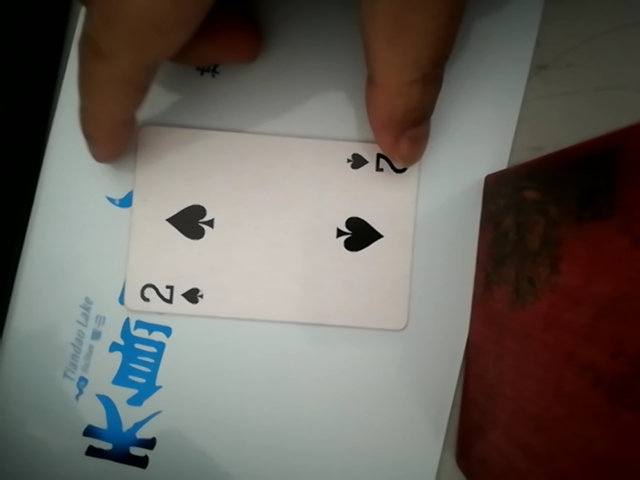ht 2: (110, 119, 441, 339)
